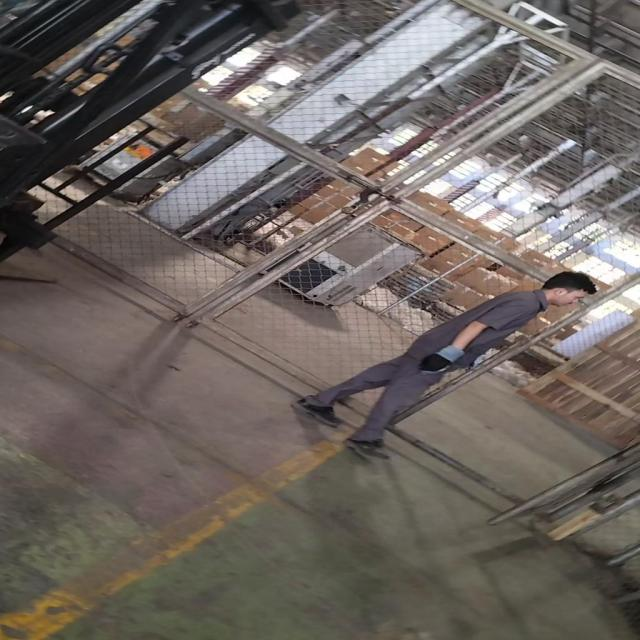Gloves-Detection: (422, 340, 459, 374)
